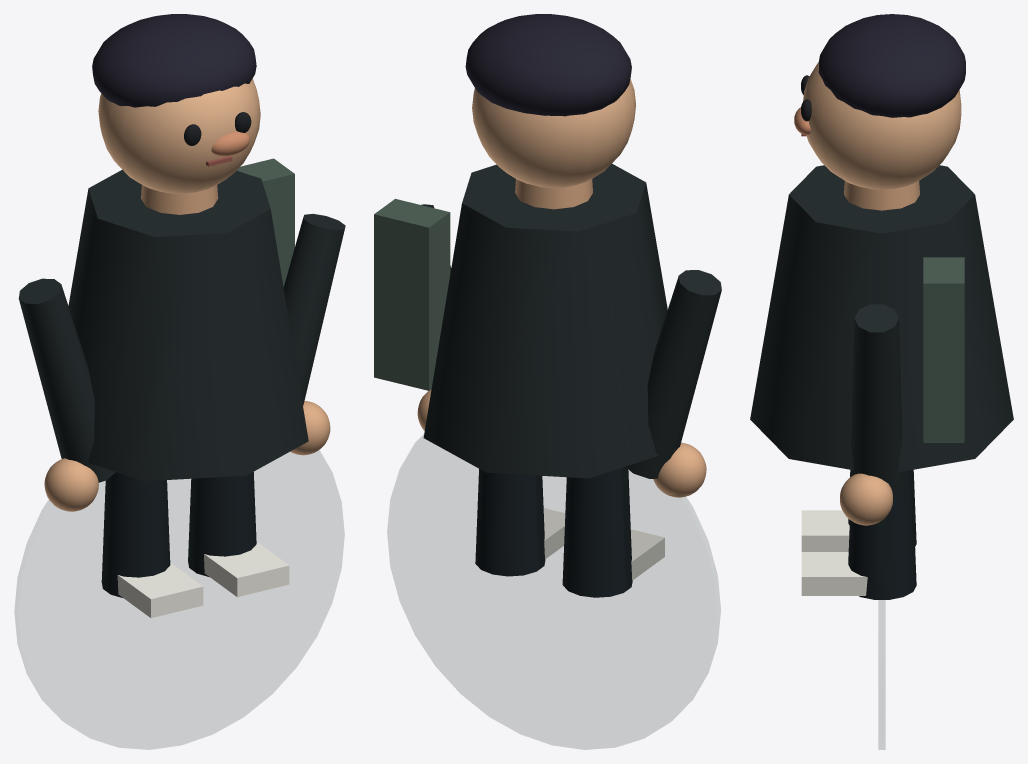
File: avatar_pharmacist_black.glb
The picture shows the model from 3 angles, left to right: view 1: azimuth 30°, elevation 25°; view 2: azimuth 150°, elevation 25°; view 3: azimuth 270°, elevation 25°; orthographic projection. The views are drawn at different scales.
Parts seen in each view (by area): view 1: torso, shadow, hair, head, arm_-0.255, leg_-0.095, arm_0.255, leg_0.095, shoe_-0.095, shoe_0.095, shoulder_bag, hand_-0.255 (+3 smaller); view 2: shadow, torso, hair, shoulder_bag, head, arm_-0.255, leg_-0.095, leg_0.095, hand_-0.255, neck, shoe_-0.095, shoe_0.095; view 3: torso, hair, head, arm_0.255, shoulder_bag, leg_0.095, shoe_0.095, hand_0.255, shoe_-0.095, neck, shadow.
Boxes of the visible parts, <box> form: torso: <box>68,169,308,481</box>; shadow: <box>15,450,344,749</box>; hair: <box>92,14,256,107</box>; head: <box>98,78,260,193</box>; arm_-0.255: <box>18,278,115,482</box>; leg_-0.095: <box>101,472,170,597</box>; arm_0.255: <box>283,214,345,405</box>; leg_0.095: <box>188,472,256,576</box>; shoe_-0.095: <box>117,563,203,618</box>; shoe_0.095: <box>204,542,289,597</box>; shoulder_bag: <box>236,158,294,286</box>; hand_-0.255: <box>44,458,98,511</box>; shadow: <box>387,434,720,749</box>; torso: <box>423,163,667,478</box>; hair: <box>465,14,631,116</box>; shoulder_bag: <box>374,198,450,390</box>; head: <box>472,78,635,187</box>; arm_-0.255: <box>625,270,721,478</box>; leg_-0.095: <box>562,467,632,597</box>; leg_0.095: <box>475,469,545,576</box>; hand_-0.255: <box>653,442,706,497</box>; neck: <box>515,179,592,209</box>; shoe_-0.095: <box>630,529,664,580</box>; shoe_0.095: <box>543,508,565,559</box>; torso: <box>750,165,1013,472</box>; hair: <box>818,14,965,117</box>; head: <box>803,62,961,189</box>; arm_0.255: <box>850,304,903,494</box>; shoulder_bag: <box>923,257,964,442</box>; leg_0.095: <box>848,470,916,599</box>; shoe_0.095: <box>801,552,867,595</box>; hand_0.255: <box>840,473,892,525</box>; shoe_-0.095: <box>801,510,849,551</box>; neck: <box>844,181,919,210</box>; shadow: <box>879,518,884,749</box>.
Size of the model in its own units: 0.72 by 1.51 by 0.51.
